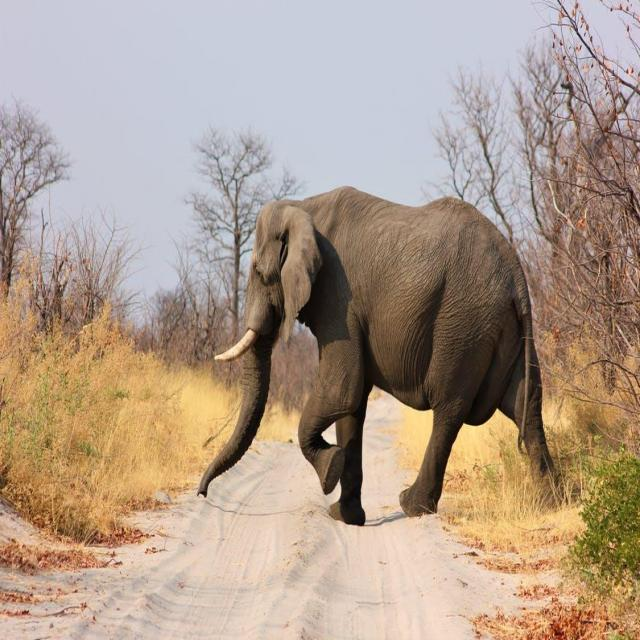Elephant: (193, 179, 566, 526)
